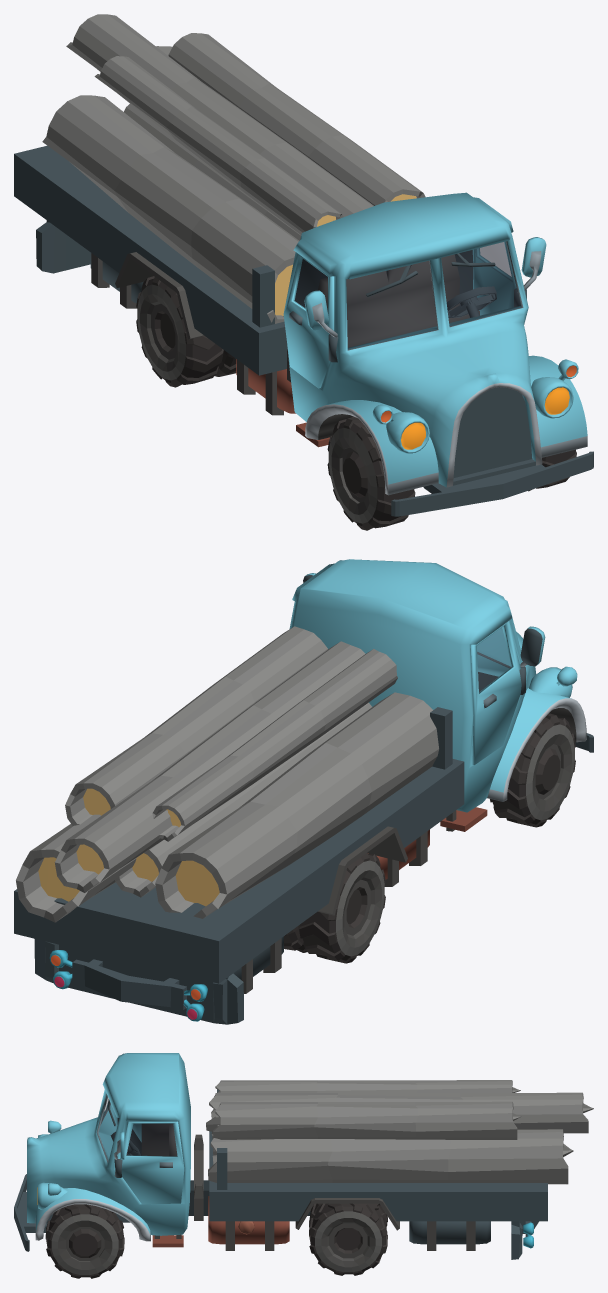
File: truck_05.glb
The picture shows the model from 3 angles, top to bottom: view 1: azimuth 30°, elevation 25°; view 2: azimuth 150°, elevation 25°; view 3: azimuth 270°, elevation 25°; orthographic projection. The views are drawn at different scales.
Parts seen in each view (by area): view 1: Truck_body.001, Prop2, Truck_Trailler1, Truck_Engine.001, Truck_Wheel_Back.001, Truck_Wheel_Front.right.001, Truck_Door.right.001, Truck_Door.left.001, Truck_Bumper.001, TruckModule_OilTank.001, Truck_WheelCover.001, TruckModule_Laggage.001 (+1 smaller); view 2: Prop2, Truck_body.001, Truck_Trailler1, Truck_Bumper.001, Truck_Wheel_Back.001, Truck_Wheel_Front.right.001, Truck_Door.right.001, Truck_WheelCover.001, TruckModule_Laggage.001, TruckModule_OilTank.001; view 3: Prop2, Truck_body.001, Truck_Trailler1, Truck_Wheel_Back.001, Truck_Wheel_Front.left.001, Truck_Door.left.001, TruckModule_OilTank.001, TruckModule_Laggage.001, Truck_Chassy_Short.001, Truck_Engine.001, Truck_WheelCover.001, Truck_Bumper.001.
Part boxes in pixels (x1,y1,x2,y2): Truck_body.001: [287, 192, 587, 495]; Prop2: [42, 14, 425, 323]; Truck_Trailler1: [14, 145, 287, 375]; Truck_Engine.001: [391, 387, 593, 516]; Truck_Wheel_Back.001: [136, 276, 236, 387]; Truck_Wheel_Front.right.001: [327, 416, 415, 530]; Truck_Door.right.001: [283, 252, 333, 388]; Truck_Door.left.001: [472, 242, 516, 315]; Truck_Bumper.001: [36, 220, 90, 273]; TruckModule_OilTank.001: [236, 359, 295, 415]; Truck_WheelCover.001: [115, 252, 203, 339]; TruckModule_Laggage.001: [90, 252, 143, 308]; Prop2: [16, 626, 438, 922]; Truck_body.001: [290, 559, 586, 831]; Truck_Trailler1: [14, 707, 464, 983]; Truck_Bumper.001: [34, 938, 243, 1024]; Truck_Wheel_Back.001: [284, 853, 385, 963]; Truck_Wheel_Front.right.001: [490, 713, 575, 827]; Truck_Door.right.001: [470, 621, 521, 764]; Truck_WheelCover.001: [318, 826, 407, 915]; TruckModule_Laggage.001: [233, 936, 283, 993]; TruckModule_OilTank.001: [368, 829, 429, 886]; Prop2: [206, 1080, 593, 1184]; Truck_body.001: [27, 1053, 190, 1247]; Truck_Trailler1: [209, 1089, 547, 1221]; Truck_Wheel_Back.001: [309, 1203, 387, 1275]; Truck_Wheel_Front.left.001: [45, 1204, 124, 1278]; Truck_Door.left.001: [120, 1121, 184, 1204]; TruckModule_OilTank.001: [208, 1196, 289, 1250]; TruckModule_Laggage.001: [409, 1221, 490, 1250]; Truck_Chassy_Short.001: [188, 1134, 310, 1220]; Truck_Engine.001: [14, 1174, 130, 1251]; Truck_WheelCover.001: [295, 1198, 399, 1230]; Truck_Bumper.001: [511, 1221, 538, 1259].
Size of the model in its own units: 3.83 by 3.87 by 11.64.
Materials: 4 (3 with a texture image).
